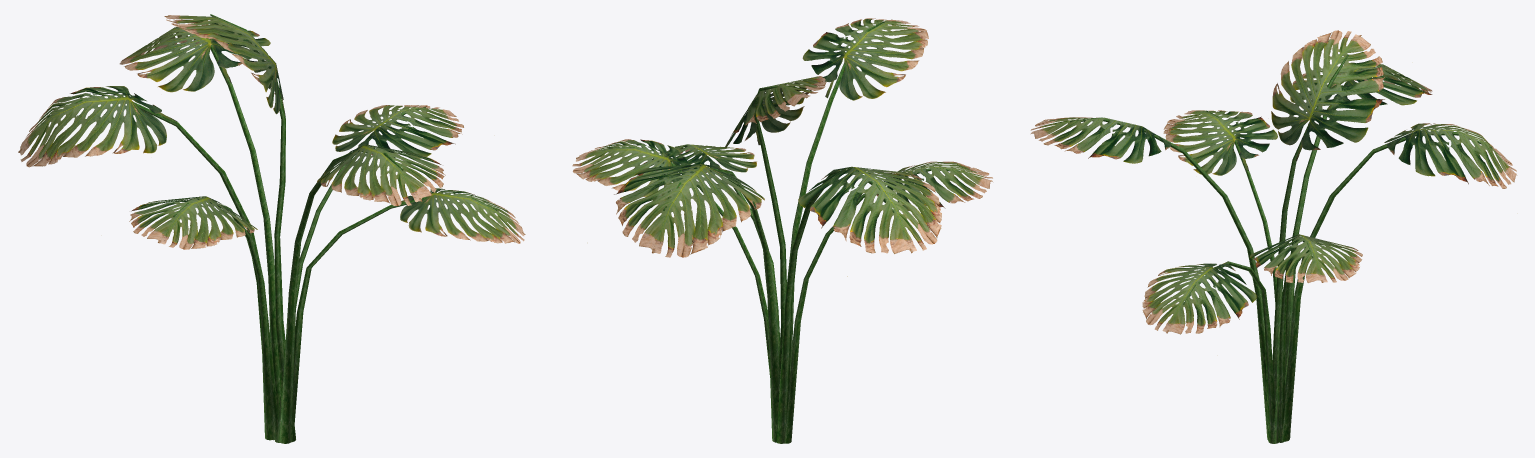
File: fan plant.dae
3 views of the same model, side by side, from view 1: azimuth 30°, elevation 25°; view 2: azimuth 150°, elevation 25°; view 3: azimuth 270°, elevation 25° (orthographic). The views are drawn at different scales.
Parts seen in each view (by area): view 1: fan_plant_Form1, fan_plant_Shape0, fan_plant_Group2_Form1, fan_plant_Group2_Shape0; view 2: fan_plant_Form1, fan_plant_Shape0, fan_plant_Group2_Form1, fan_plant_Group2_Shape0; view 3: fan_plant_Form1, fan_plant_Shape0, fan_plant_Group2_Form1, fan_plant_Group2_Shape0.
Part boxes in pixels (box(x1,y1,x2,y2)): fan_plant_Form1: box(18, 15, 525, 243); fan_plant_Shape0: box(47, 14, 496, 443); fan_plant_Group2_Form1: box(129, 196, 257, 249); fan_plant_Group2_Shape0: box(173, 201, 273, 440); fan_plant_Form1: box(572, 18, 941, 276); fan_plant_Shape0: box(608, 21, 894, 443); fan_plant_Group2_Form1: box(876, 161, 992, 210); fan_plant_Group2_Shape0: box(783, 167, 959, 443); fan_plant_Form1: box(1030, 30, 1517, 334); fan_plant_Shape0: box(1070, 54, 1491, 443); fan_plant_Group2_Form1: box(1163, 110, 1277, 175); fan_plant_Group2_Shape0: box(1206, 110, 1276, 303).
Bounding box in the file's own units: 84.96 × 76.69 × 89.61.
2 materials, 2 textured.
